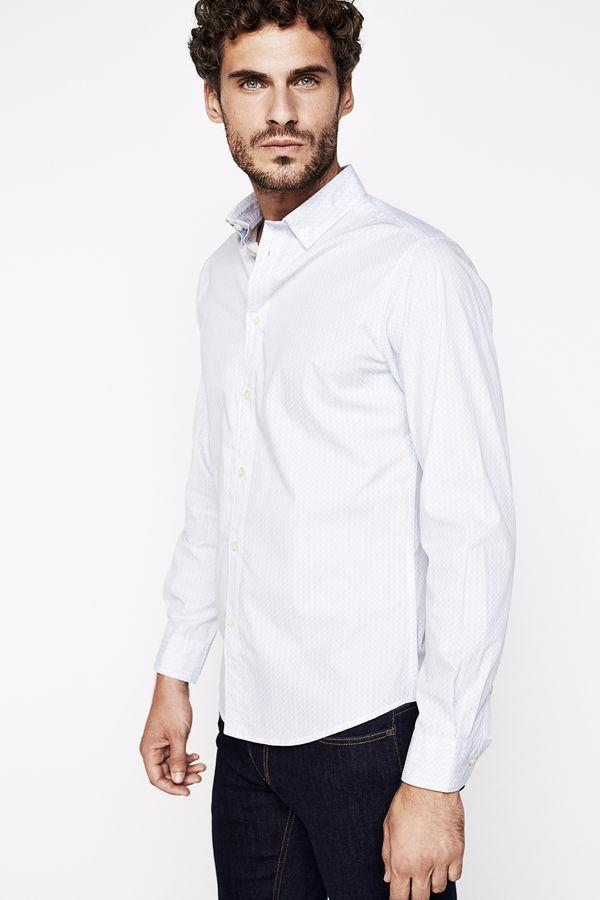teeshirt: (155, 178, 508, 784)
